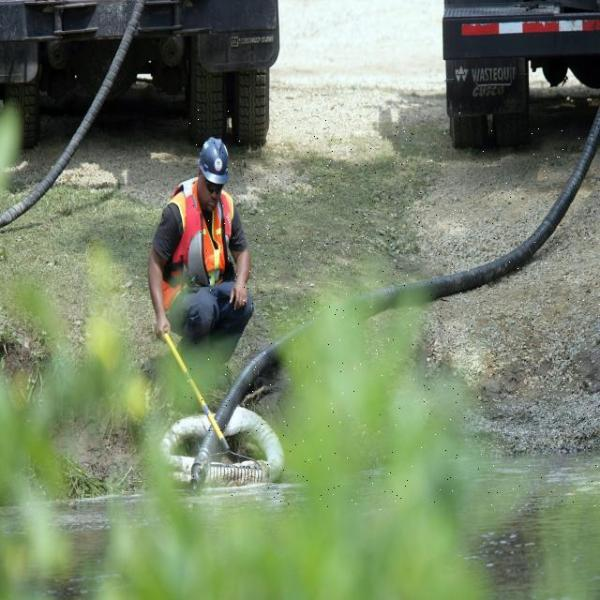no leak: (218, 366, 276, 436)
